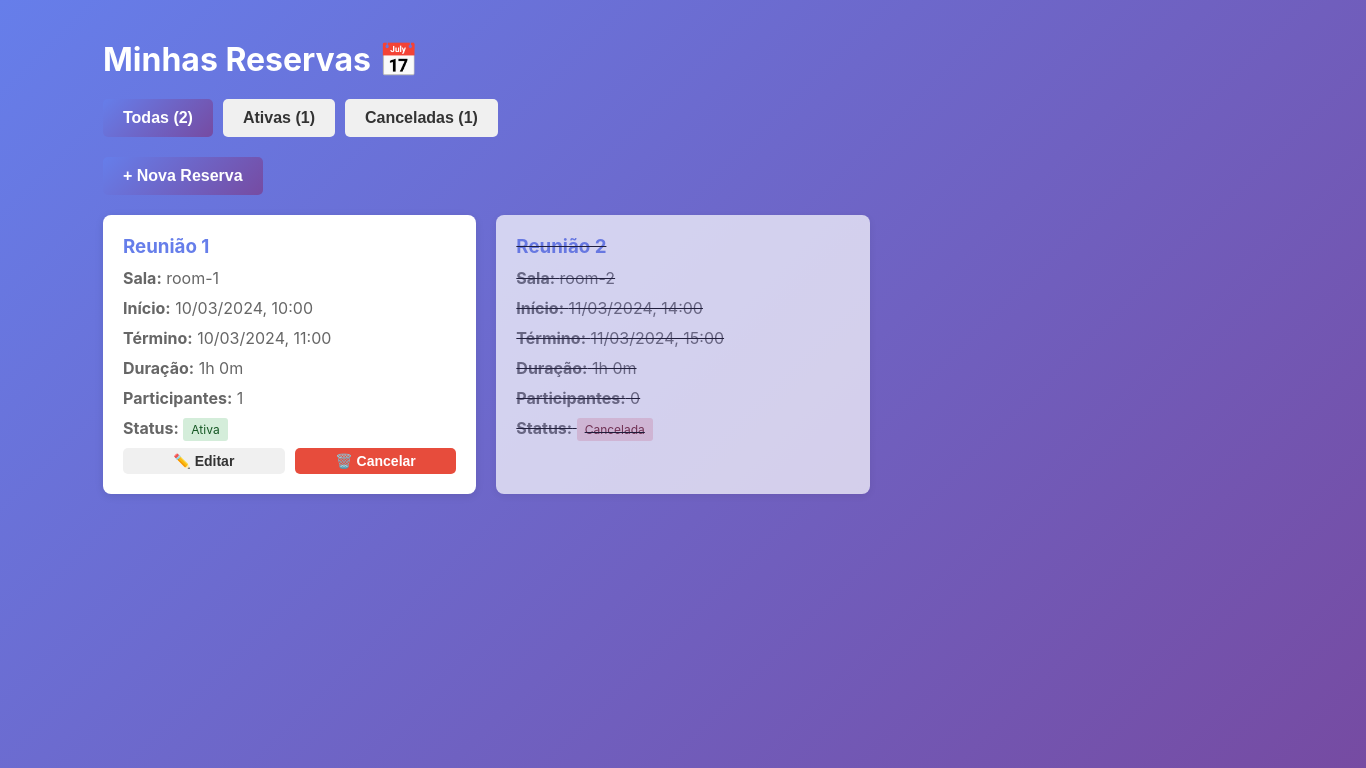
BookingList Component › filters bookings by status
Expected: the heading "Reunião 1" is shown, [123, 235, 209, 258]
Click the button "Ativas (1)": {"x": 279, "y": 118} [223, 99, 335, 137]
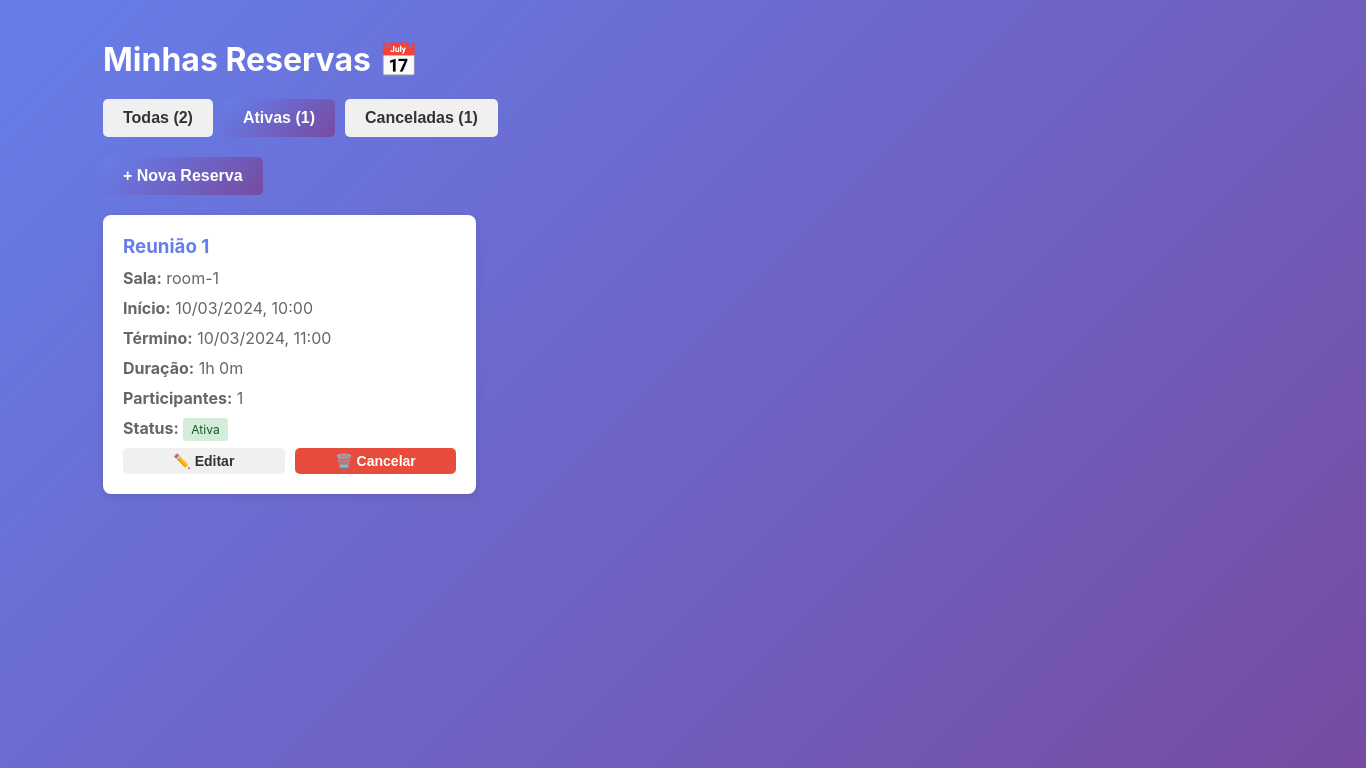
Expected: the heading "Reunião 1" is shown, [123, 235, 209, 258]
Expected: the heading "Reunião 2" is gone
